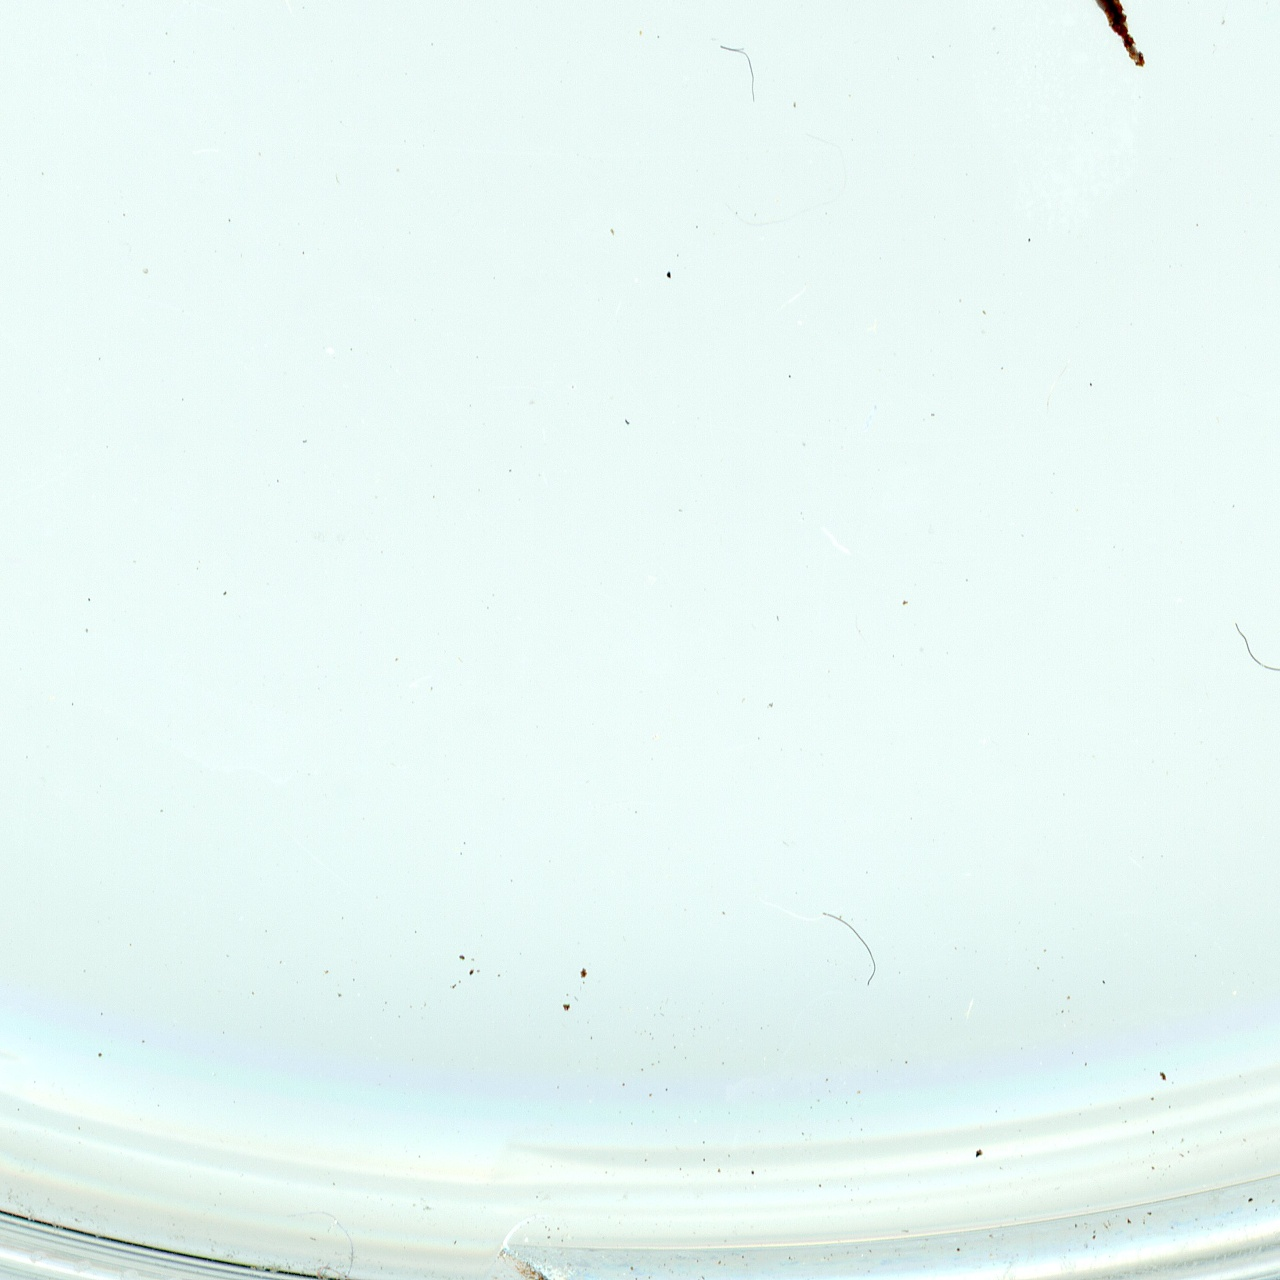arthropod: (0, 96, 4, 157)
